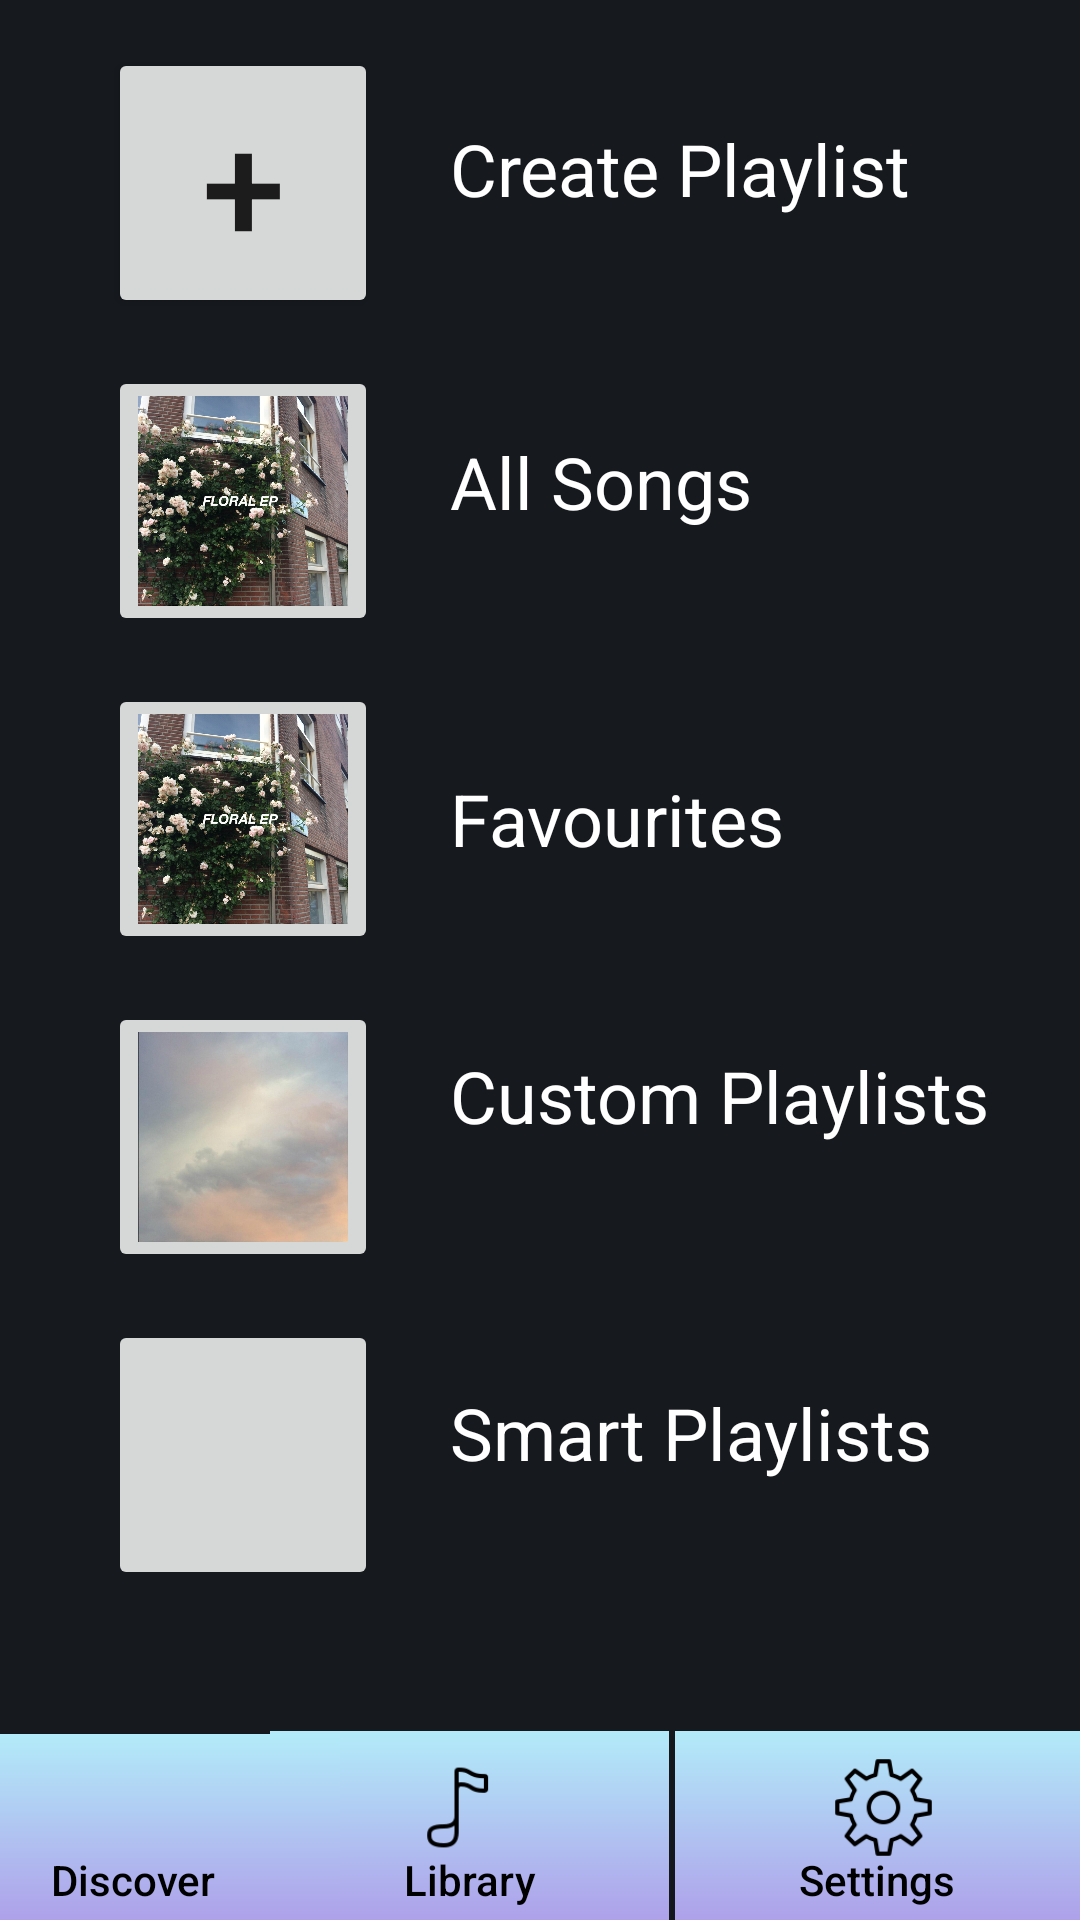

Named icons in this screenshot (1080×1920) and their centers, (x,y):
music: (454,1807)
